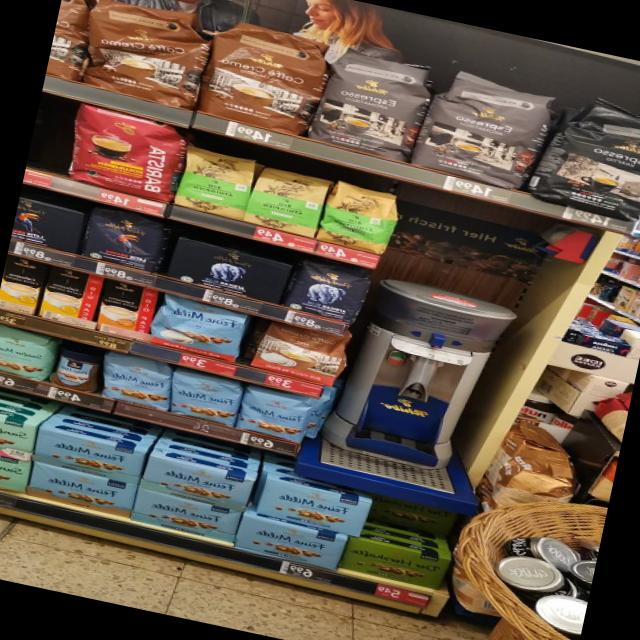AB Bohne: (278, 262, 373, 327)
AB Gemahlen: (159, 233, 295, 306)
Athiopien Bohne: (308, 177, 406, 259)
Athiopien Gemahlen: (240, 160, 334, 240), (172, 144, 261, 223)
Barista Kolumbien: (60, 101, 192, 206)
CC Vollmundig: (240, 318, 355, 390)
CC Vollmundig 36 Pads: (191, 12, 338, 141), (74, 0, 222, 112)
Espresso Aromatisch: (405, 62, 573, 195), (296, 43, 444, 165)
Espresso Kraftig: (514, 92, 640, 230)
FM 36 Pads: (144, 292, 252, 365)
FM Bohne: (230, 383, 318, 446), (162, 368, 247, 431), (96, 348, 178, 412)
FM Gemahlen: (253, 475, 376, 539), (135, 452, 258, 512), (26, 426, 147, 486), (21, 460, 142, 520), (230, 512, 350, 572), (126, 488, 242, 544)
FM Instant: (46, 345, 107, 396)
Herzhatfe Mundig: (336, 536, 454, 592)
LG Bohne: (74, 203, 175, 275)
SM Bohne: (0, 322, 59, 382)
Simo CCMild: (34, 265, 103, 330)
Simo CCMild bigpack: (0, 255, 47, 317)
Simo CCVollmundig: (93, 278, 159, 343)
